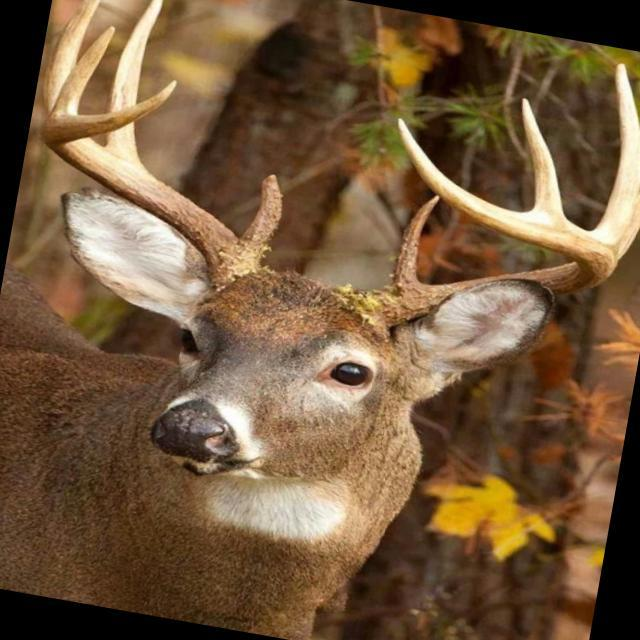L-F: (328, 115, 616, 339)
L-G1: (389, 196, 438, 286)
L-G3: (589, 63, 640, 254)
L-G4: (521, 97, 567, 221)
R-F: (40, 79, 267, 293)
R-G1: (238, 174, 283, 259)
R-G4: (47, 25, 115, 116)
